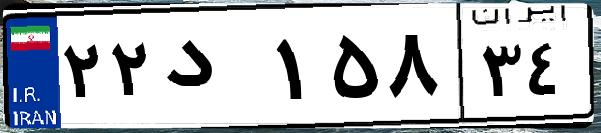1: (270, 28, 330, 110)
2: (57, 26, 110, 100), (110, 28, 158, 98)
3: (475, 38, 525, 113)
4: (525, 38, 570, 115)
5: (330, 28, 385, 110)
8: (385, 28, 445, 110)
د: (158, 20, 270, 120)
